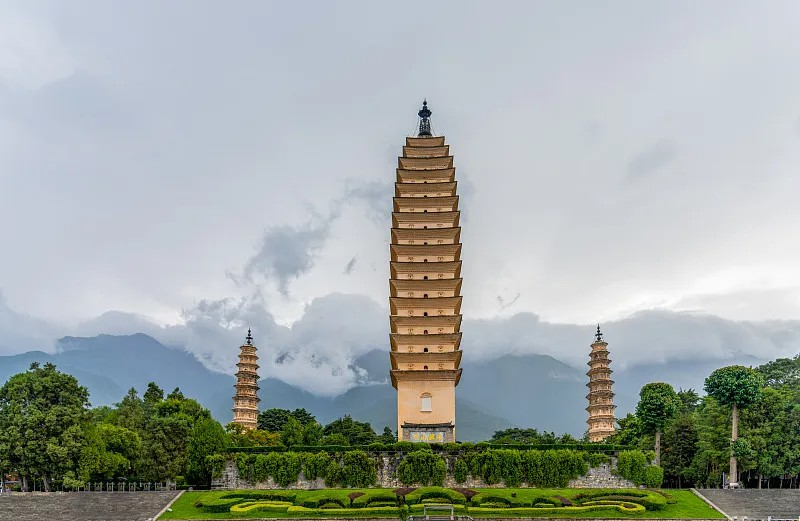ThreePagoda: (390, 99, 462, 442)
